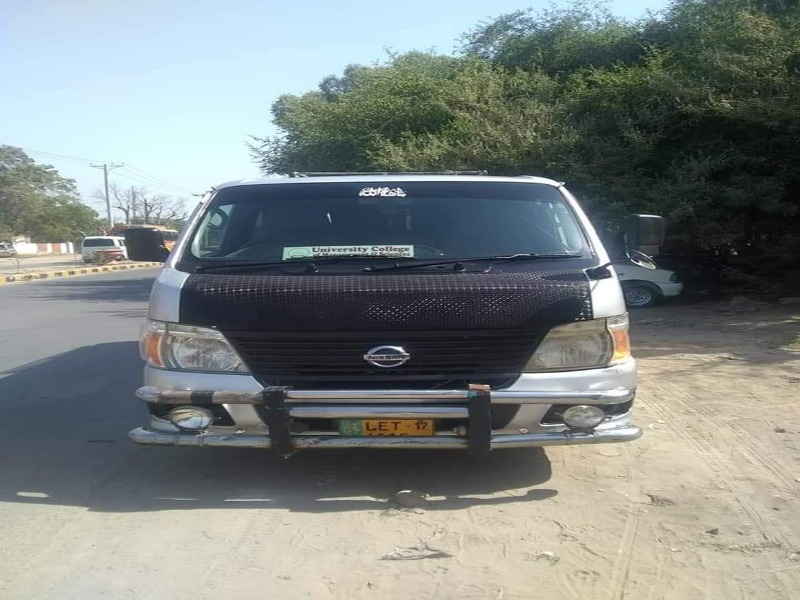License Plate: (333, 413, 439, 441)
